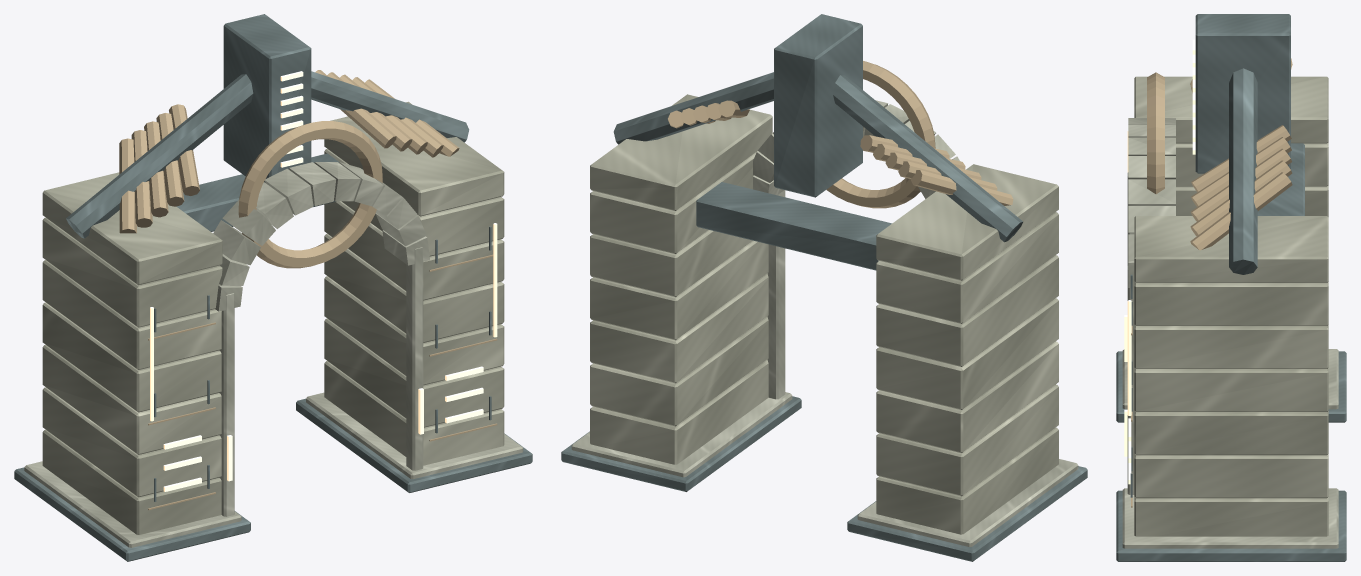
File: portal-fire-v01.glb
3 views of the same model, side by side, from view 1: azimuth 30°, elevation 25°; view 2: azimuth 150°, elevation 25°; view 3: azimuth 270°, elevation 25° (orthographic).
Visible parts, largest first — view 1: fire_Mumu_ivory_limestone, fire_Mumu_blue_slate, fire_Mumu_chisel_edges, fire_Mumu_satin_brass, fire_Mumu_fire_light; view 2: fire_Mumu_ivory_limestone, fire_Mumu_blue_slate, fire_Mumu_chisel_edges, fire_Mumu_satin_brass; view 3: fire_Mumu_ivory_limestone, fire_Mumu_blue_slate, fire_Mumu_chisel_edges, fire_Mumu_satin_brass, fire_Mumu_fire_light.
Boxes of the visible parts, <box> form: fire_Mumu_ivory_limestone: <box>42,101,504,534</box>; fire_Mumu_blue_slate: <box>14,14,532,561</box>; fire_Mumu_chisel_edges: <box>24,162,523,547</box>; fire_Mumu_satin_brass: <box>119,70,497,510</box>; fire_Mumu_fire_light: <box>150,71,497,491</box>; fire_Mumu_ivory_limestone: <box>590,94,1058,534</box>; fire_Mumu_blue_slate: <box>561,14,1087,561</box>; fire_Mumu_chisel_edges: <box>571,100,1078,546</box>; fire_Mumu_satin_brass: <box>668,61,1013,208</box>; fire_Mumu_ivory_limestone: <box>1134,76,1328,536</box>; fire_Mumu_blue_slate: <box>1116,14,1346,561</box>; fire_Mumu_chisel_edges: <box>1122,118,1338,548</box>; fire_Mumu_satin_brass: <box>1131,58,1292,507</box>; fire_Mumu_fire_light: <box>1124,39,1195,484</box>.
Bounding box in the file's own units: 6.2 × 6.3 × 3.
5 materials, 3 textured.
